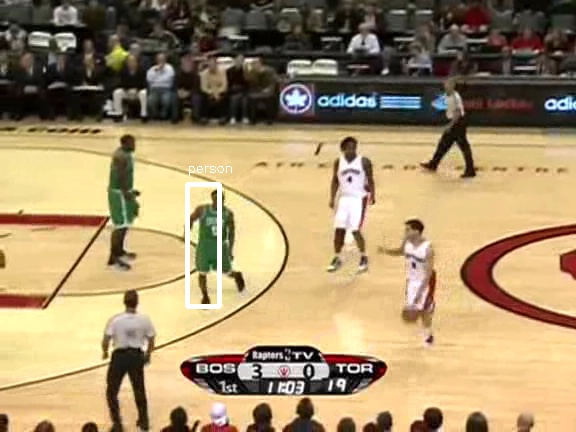person: (198, 204, 232, 285), (197, 204, 231, 285), (199, 204, 233, 285), (198, 203, 232, 284), (198, 205, 232, 286)
target_negative: (14, 210, 461, 376), (53, 257, 432, 409), (367, 251, 508, 424), (118, 305, 349, 379), (358, 152, 425, 407), (492, 84, 544, 318)
